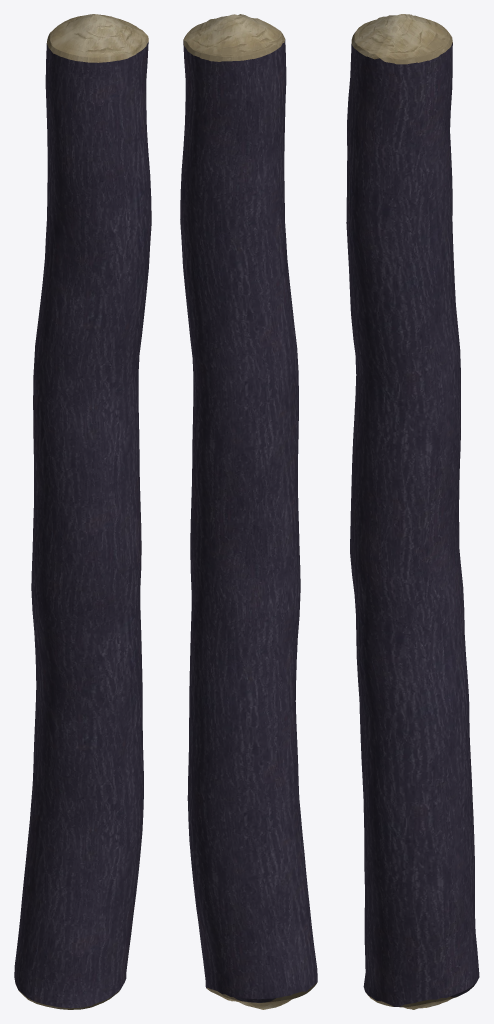
3 views of the same model, side by side, from view 1: azimuth 30°, elevation 25°; view 2: azimuth 210°, elevation 25°; view 3: azimuth 270°, elevation 25° (orthographic).
Visible parts, largest first — view 1: SM_FH_Oak_Tree_01_tree_quarters_top_LOD0; view 2: SM_FH_Oak_Tree_01_tree_quarters_top_LOD0; view 3: SM_FH_Oak_Tree_01_tree_quarters_top_LOD0.
Boxes of the visible parts, x1,y1,x2,y2 form: SM_FH_Oak_Tree_01_tree_quarters_top_LOD0: (14, 14, 151, 1009); SM_FH_Oak_Tree_01_tree_quarters_top_LOD0: (180, 14, 317, 1009); SM_FH_Oak_Tree_01_tree_quarters_top_LOD0: (346, 14, 479, 1009).
Size of the model in its own units: 0.9001 by 7.5 by 0.9024.
Materials: 1 (1 with a texture image).
